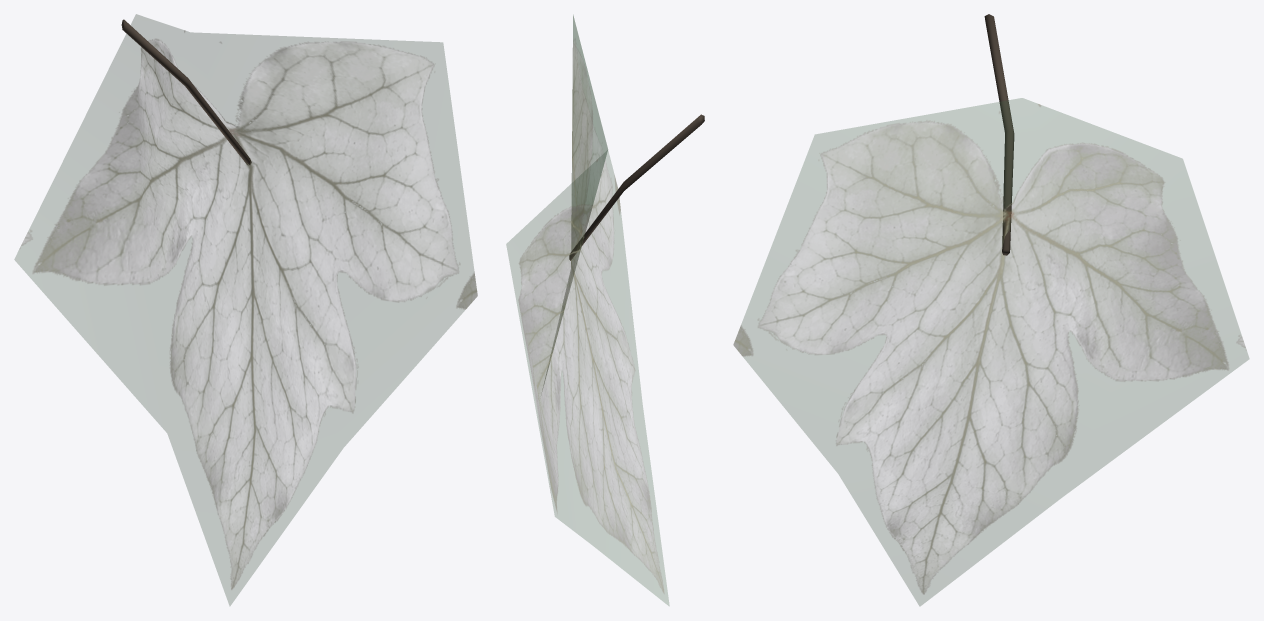
File: preview.glb
3 renders of one model, left to right at view 1: azimuth 30°, elevation 25°; view 2: azimuth 150°, elevation 25°; view 3: azimuth 270°, elevation 25°, orthographic. The views are drawn at different scales.
Visible parts, largest first — view 1: Vine_Vitis_vinifera_A_Leaf_glb, Vine_Vitis_vinifera_A_Stem_glb; view 2: Vine_Vitis_vinifera_A_Leaf_glb, Vine_Vitis_vinifera_A_Stem_glb; view 3: Vine_Vitis_vinifera_A_Leaf_glb, Vine_Vitis_vinifera_A_Stem_glb.
Part boxes in pixels (box(x1,y1,x2,y2)): Vine_Vitis_vinifera_A_Leaf_glb: box(14, 14, 477, 605); Vine_Vitis_vinifera_A_Stem_glb: box(121, 19, 251, 164); Vine_Vitis_vinifera_A_Leaf_glb: box(506, 15, 669, 605); Vine_Vitis_vinifera_A_Stem_glb: box(569, 114, 704, 260); Vine_Vitis_vinifera_A_Leaf_glb: box(733, 98, 1249, 605); Vine_Vitis_vinifera_A_Stem_glb: box(984, 14, 1014, 255).
Bounding box in the file's own units: 0.0476 × 0.1139 × 0.0952.
2 materials, 2 textured.
